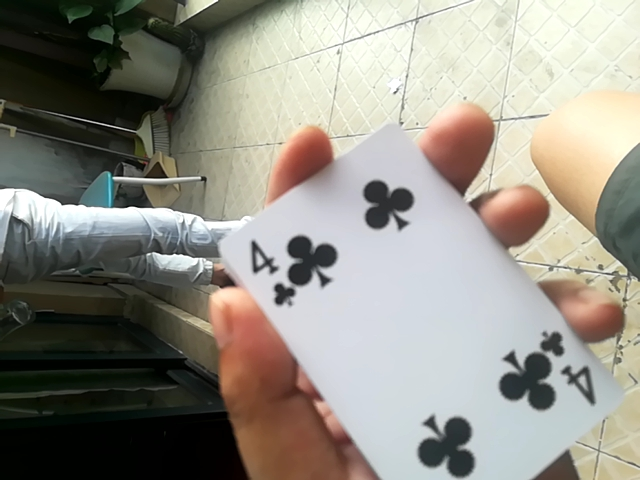mh 4: (220, 98, 615, 480)
